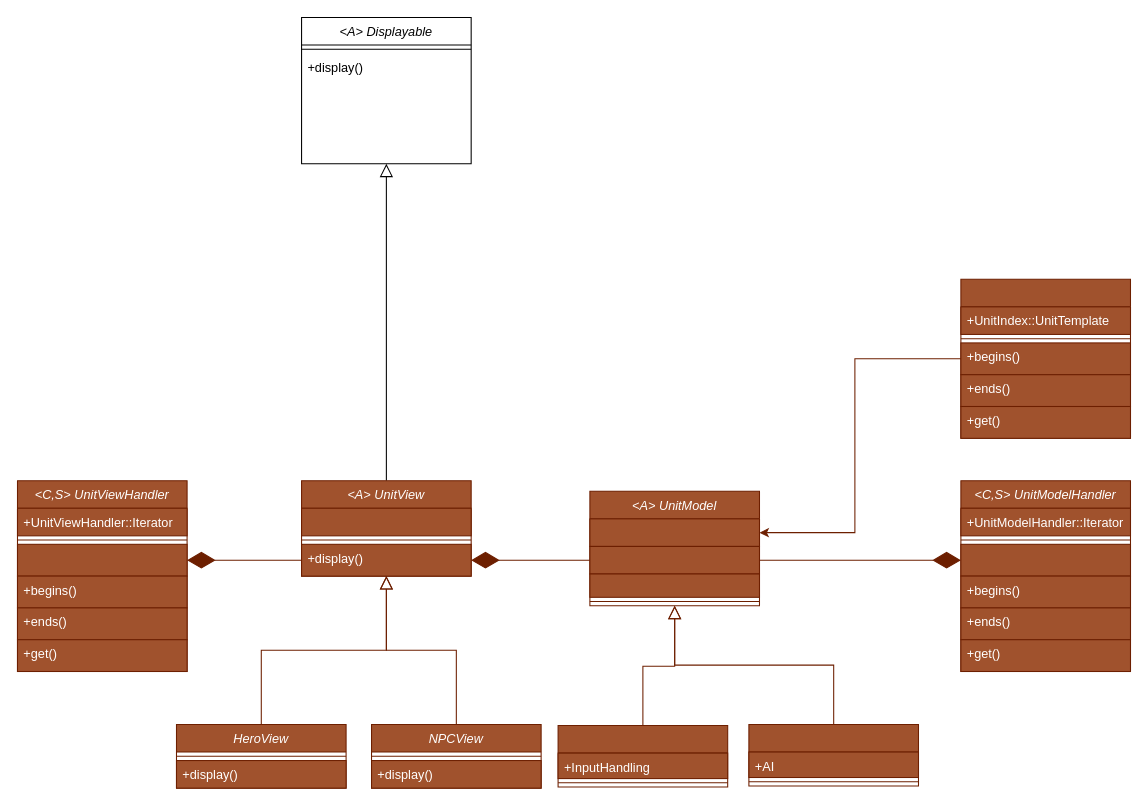
Some shapes in this 1148 by 806 pixel diagram are drawn without their labels. The box of each missing label's shape, as (x1, y1, x2, y2) in pixels:
+displayUnits(): (16, 543, 187, 576)
+initiate(): (960, 543, 1130, 576)
+level: (589, 573, 759, 597)
+MaxHP: (589, 545, 759, 574)
+Name: (589, 518, 759, 546)
+Sprites: (301, 507, 471, 536)
HeroModel: (557, 725, 728, 787)
NPCModel: (748, 723, 918, 786)
UnitIdex: (960, 278, 1130, 438)
